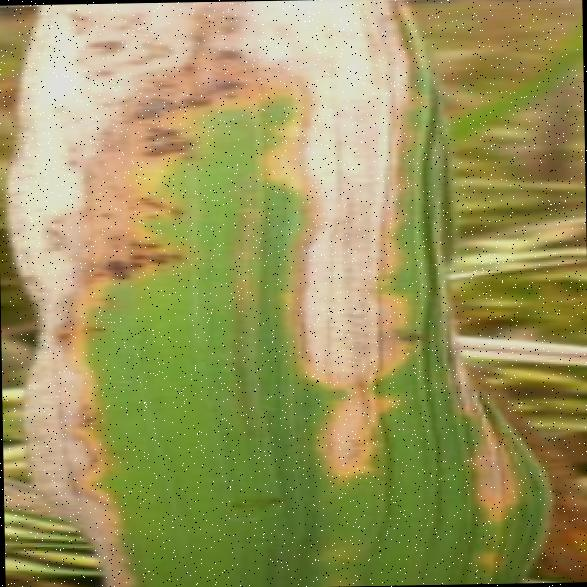Bacteria_Leaf_Blight: (0, 0, 433, 582)
